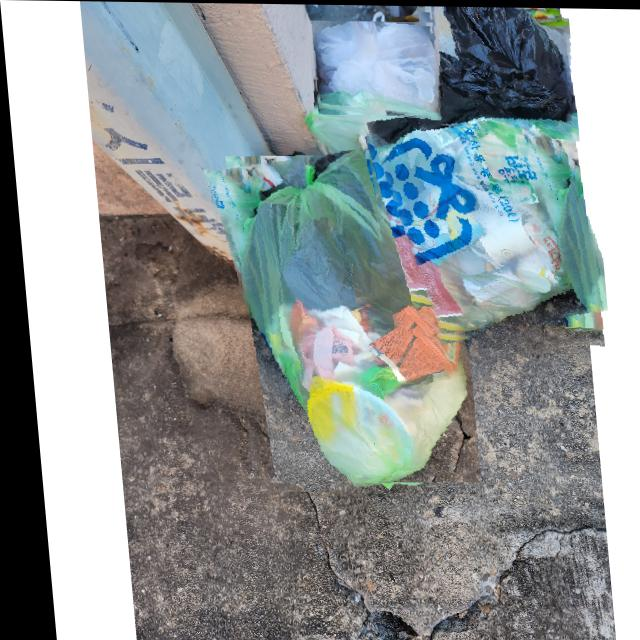general_trashbag: (203, 143, 471, 490), (361, 88, 602, 336)
other_trashbag: (430, 5, 569, 138), (313, 20, 437, 119)
